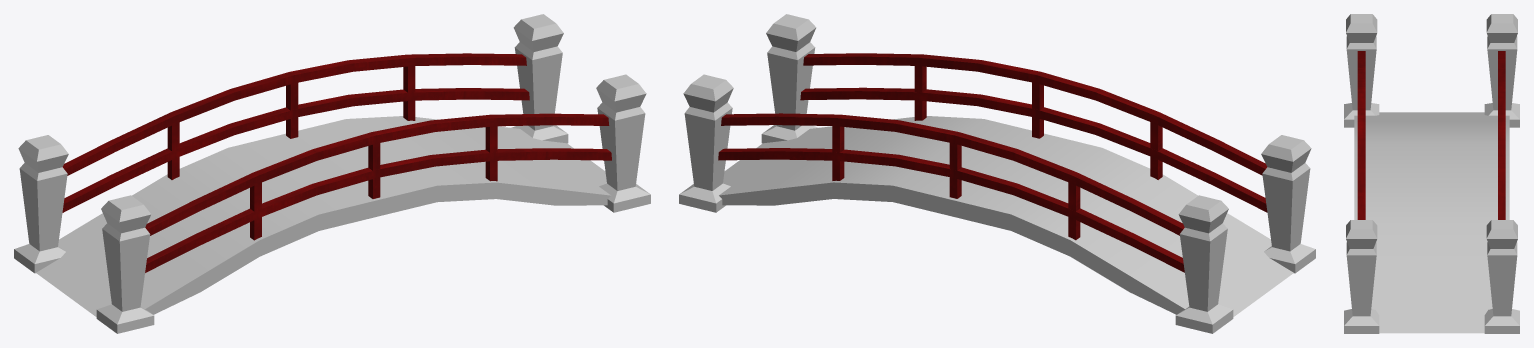
File: smallBridge.FBX
3 views of the same model, side by side, from view 1: azimuth 30°, elevation 25°; view 2: azimuth 150°, elevation 25°; view 3: azimuth 270°, elevation 25° (orthographic). The views are drawn at different scales.
Parts seen in each view (by area): view 1: Box006, Box004; view 2: Box006, Box004; view 3: Box006, Box004.
Boxes of the visible parts, x1,y1,x2,y2 form: Box006: (14,14,650,333); Box004: (62,53,611,272); Box006: (679,14,1315,333); Box004: (718,53,1267,272); Box006: (1344,14,1519,333); Box004: (1357,51,1505,219).
Bounding box in the file's own units: 203 × 46.34 × 67.96.
